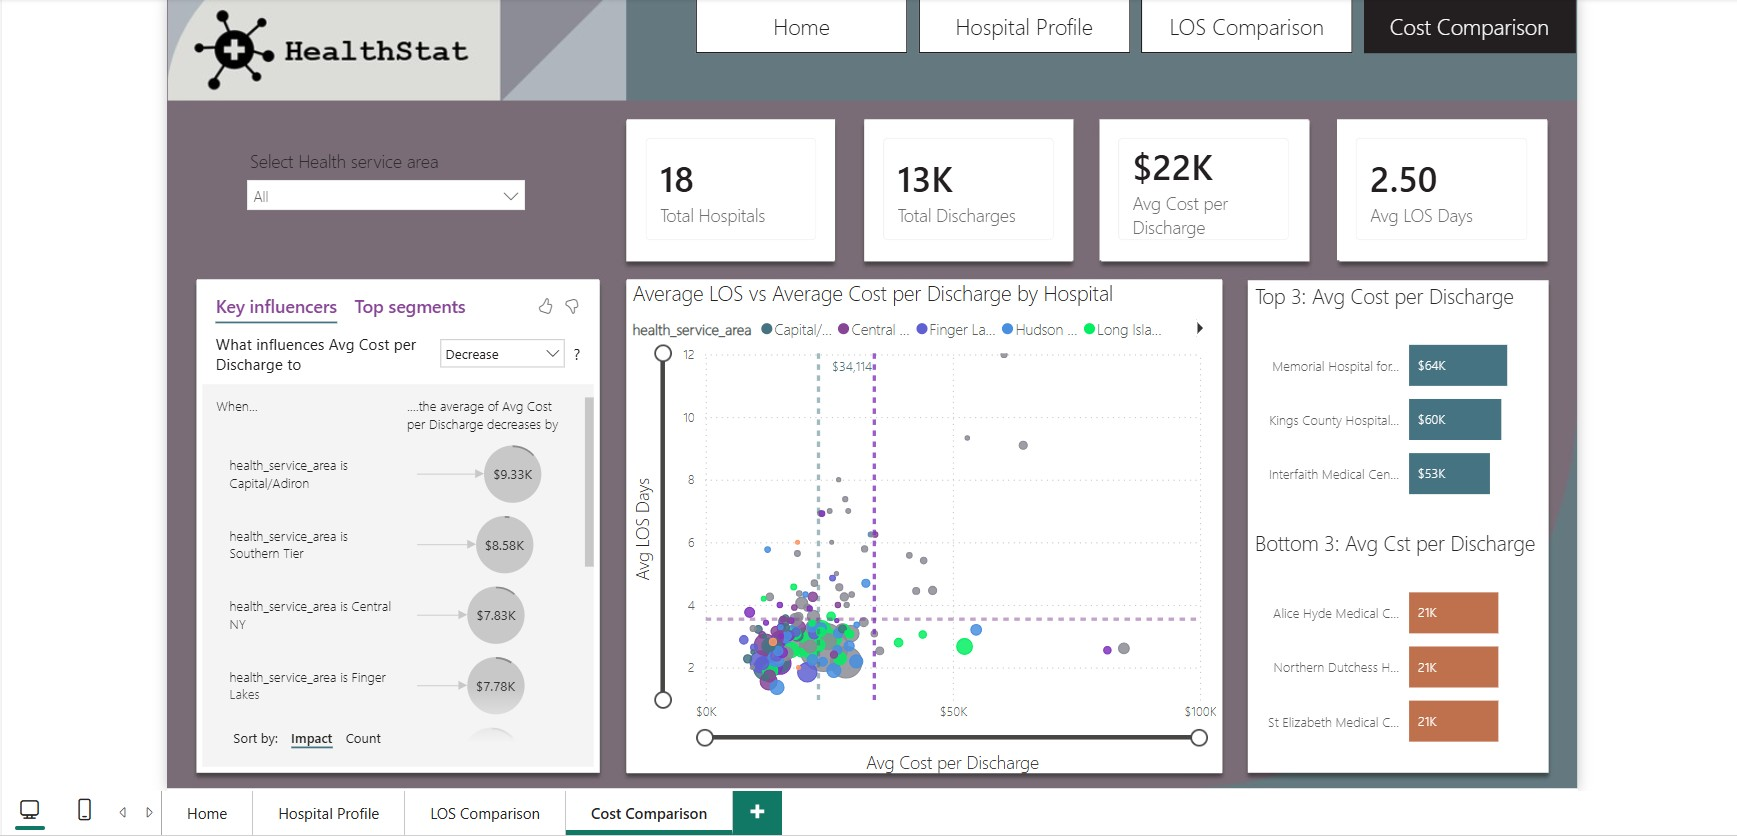

This screenshot's page, from the dashboard's own definition file:
{"tool":"powerbi","page":{"name":"Cost Comparison","canvas":[1280,720],"ordinal":3},"visuals":[{"type":"scatterChart","title":"Average LOS vs Average Cost per Discharge by Hospital","fields":{"X":["_Measures.Avg Cost per Discharge"],"Y":["_Measures.Avg LOS Days"],"Category":["hospital_discharges.facility_name"],"Size":["_Measures.Total Discharges"],"Series":["hospital_discharges.health_service_area"]},"box":[417.4,254.7,539.5,447.7],"z":0},{"type":"slicer","title":"Select Health service area","fields":{"Values":["hospital_discharges.health_service_area"]},"box":[62.8,131.4,272.1,80.2],"z":1000},{"type":"keyDriversVisual","fields":{"ExplainBy":["hospital_discharges.apr_risk_of_mortality","hospital_discharges.apr_severity_of_illness_description","hospital_discharges.ccs_diagnosis_description","hospital_discharges.patient_disposition","hospital_discharges.gender","hospital_discharges.age_band","surgical_program_volume_summary.discharges_bins","hospital_discharges.health_service_area"],"Target":["_Measures.Avg Cost per Discharge"]},"box":[27.4,255.2,365,447.3],"z":2000},{"type":"clusteredBarChart","title":"Top 3: Avg Cost per Discharge","fields":{"Category":["hospital_discharges.facility_name"],"Y":["_Measures.Avg Cost per Discharge"]},"box":[982.8,257.2,269.7,219.6],"z":3000},{"type":"clusteredBarChart","title":"Bottom 3: Avg Cst per Discharge","fields":{"Category":["hospital_discharges.facility_name"],"Y":["_Measures.Avg Cost per Discharge All"]},"box":[982.8,482.4,269.7,219.6],"z":4000},{"type":"cardVisual","fields":{"Data":["_Measures.Total Discharges"]},"box":[632.6,109.8,189.4,127.6],"z":5000},{"type":"cardVisual","fields":{"Data":["_Measures.Total Hospitals"]},"box":[417,109.8,189.1,127.9],"z":6000},{"type":"cardVisual","fields":{"Data":["_Measures.Avg LOS Days"]},"box":[1062,109.8,190.4,127.9],"z":7000},{"type":"cardVisual","fields":{"Data":["_Measures.Avg Cost per Discharge"]},"box":[846.7,109.8,189.4,127.6],"z":8000},{"type":"pageNavigator","box":[480.2,0,800,50],"z":8001}]}

Visuals, with their boxes on the page's 1280x720 design canvas (x1, y1, x2, y2). These are canvas units, not pixel positions in the 1737x836 screenshot, which may show the page scaled, cropped or inside an application window:
"Average LOS vs Average Cost per Discharge by Hospital" scatterChart: 417/255/957/702
"Select Health service area" slicer: 63/131/335/212
keyDriversVisual - hospital_discharges.apr_risk_of_mortality x hospital_discharges.apr_severity_of_illness_description: 27/255/392/702
"Top 3: Avg Cost per Discharge" clusteredBarChart: 983/257/1252/477
"Bottom 3: Avg Cst per Discharge" clusteredBarChart: 983/482/1252/702
cardVisual - _Measures.Total Discharges: 633/110/822/237
cardVisual - _Measures.Total Hospitals: 417/110/606/238
cardVisual - _Measures.Avg LOS Days: 1062/110/1252/238
cardVisual - _Measures.Avg Cost per Discharge: 847/110/1036/237
pageNavigator: 480/0/1280/50
